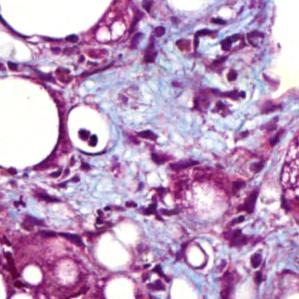steatosis: (0, 74, 59, 178), (0, 0, 114, 38), (68, 105, 112, 152), (95, 233, 130, 271), (21, 263, 46, 290)
